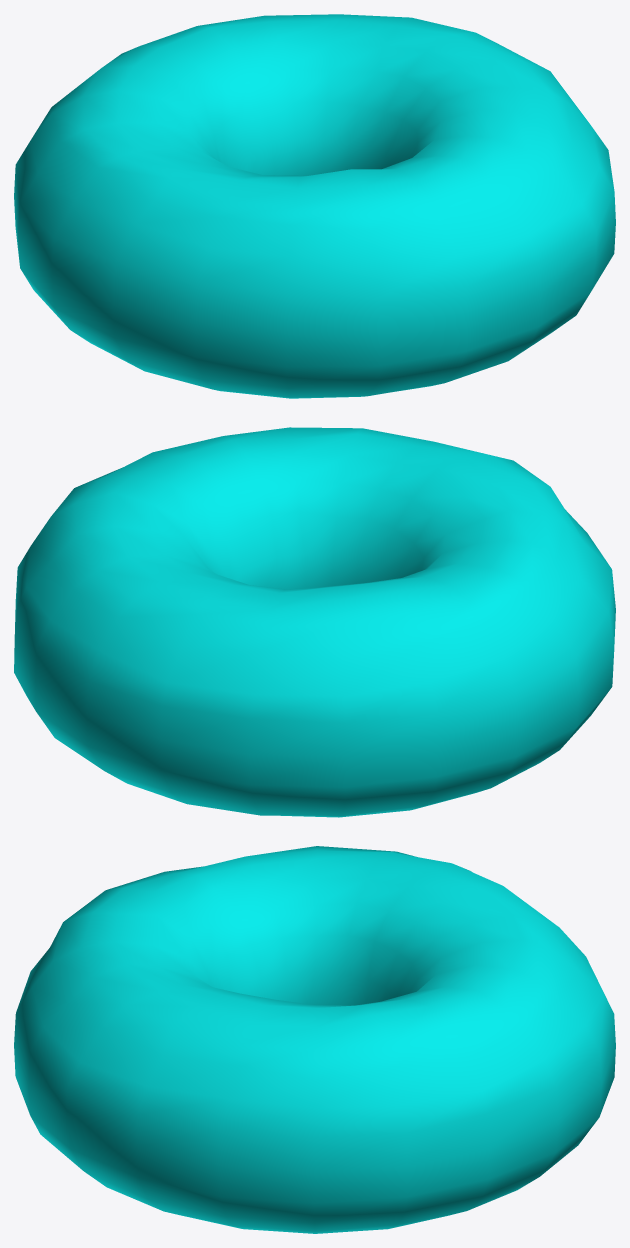
The model's file is Doughnut_LOW.fbx.
3 renders of one model, top to bottom at view 1: azimuth 30°, elevation 25°; view 2: azimuth 150°, elevation 25°; view 3: azimuth 270°, elevation 25°, orthographic.
Parts seen in each view (by area): view 1: Doughnut_low; view 2: Doughnut_low; view 3: Doughnut_low.
Part boxes in pixels (x1,y1,x2,y2): Doughnut_low: (14, 14, 615, 398); Doughnut_low: (14, 427, 615, 817); Doughnut_low: (14, 846, 615, 1233).
Bounding box in the file's own units: 11.7 × 4.49 × 11.69.
